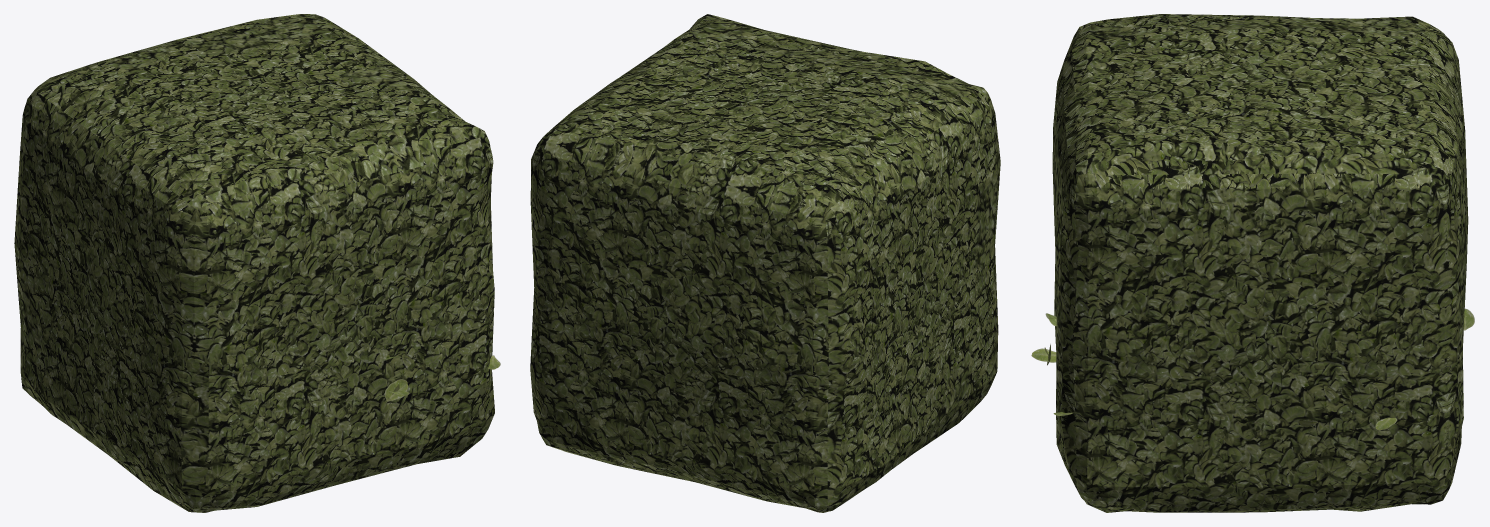
The model's file is buta_tosiq.glb.
3 renders of one model, left to right at view 1: azimuth 30°, elevation 25°; view 2: azimuth 150°, elevation 25°; view 3: azimuth 270°, elevation 25°, orthographic. The views are drawn at different scales.
Visible parts, largest first — view 1: buta_tosiq; view 2: buta_tosiq; view 3: buta_tosiq.
Boxes of the visible parts, <box> form: buta_tosiq: <box>14,14,500,512</box>; buta_tosiq: <box>530,14,1000,512</box>; buta_tosiq: <box>1031,14,1474,512</box>.
Bounding box in the file's own units: 0.9364 × 0.9131 × 0.9738.
2 materials, 2 textured.
